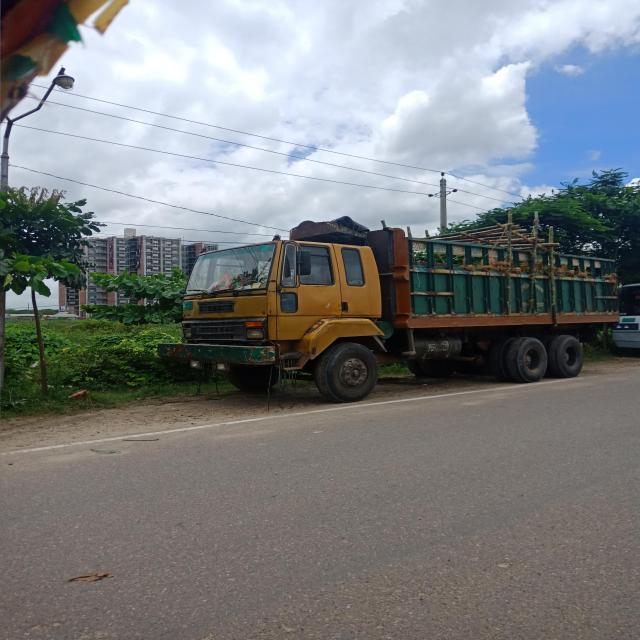truck: (163, 205, 624, 396)
